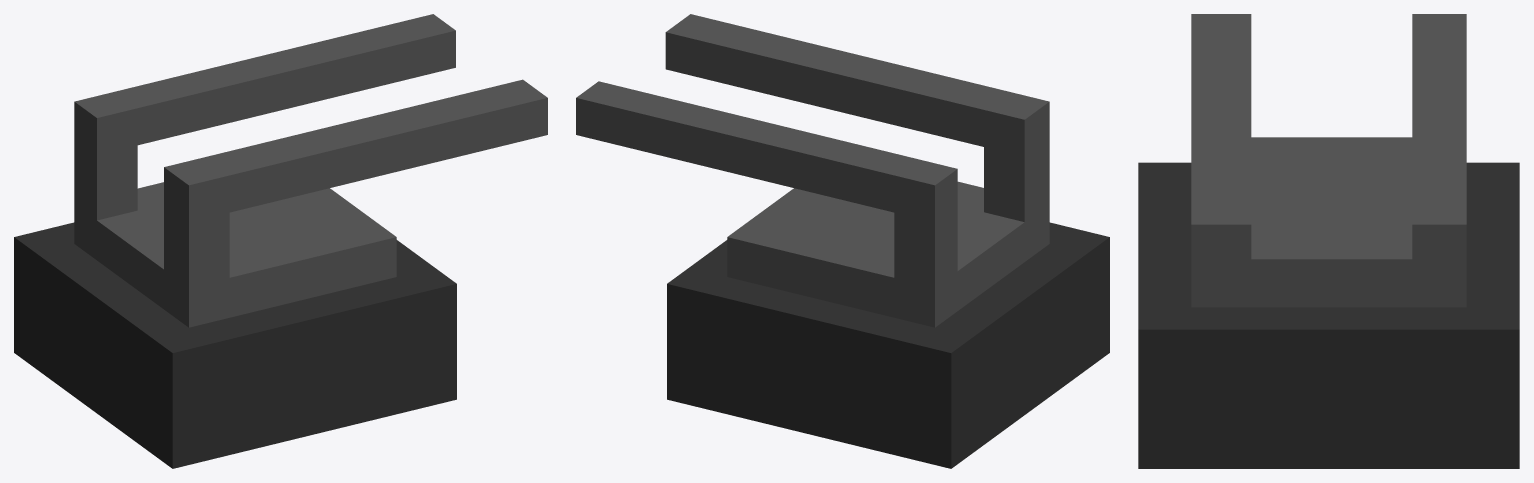
Rendered from Dest_PowerPlant_Belt_Press.FBX.
The picture shows the model from 3 angles, left to right: view 1: azimuth 30°, elevation 25°; view 2: azimuth 150°, elevation 25°; view 3: azimuth 270°, elevation 25°; orthographic projection. The views are drawn at different scales.
Visible parts, largest first — view 1: Box004; view 2: Box004; view 3: Box004.
Boxes of the visible parts, bbox=[...] form: Box004: bbox=[14, 14, 547, 468]; Box004: bbox=[576, 14, 1109, 468]; Box004: bbox=[1138, 14, 1519, 468].
Bounding box in the file's own units: 60.4 × 37.51 × 41.78.
